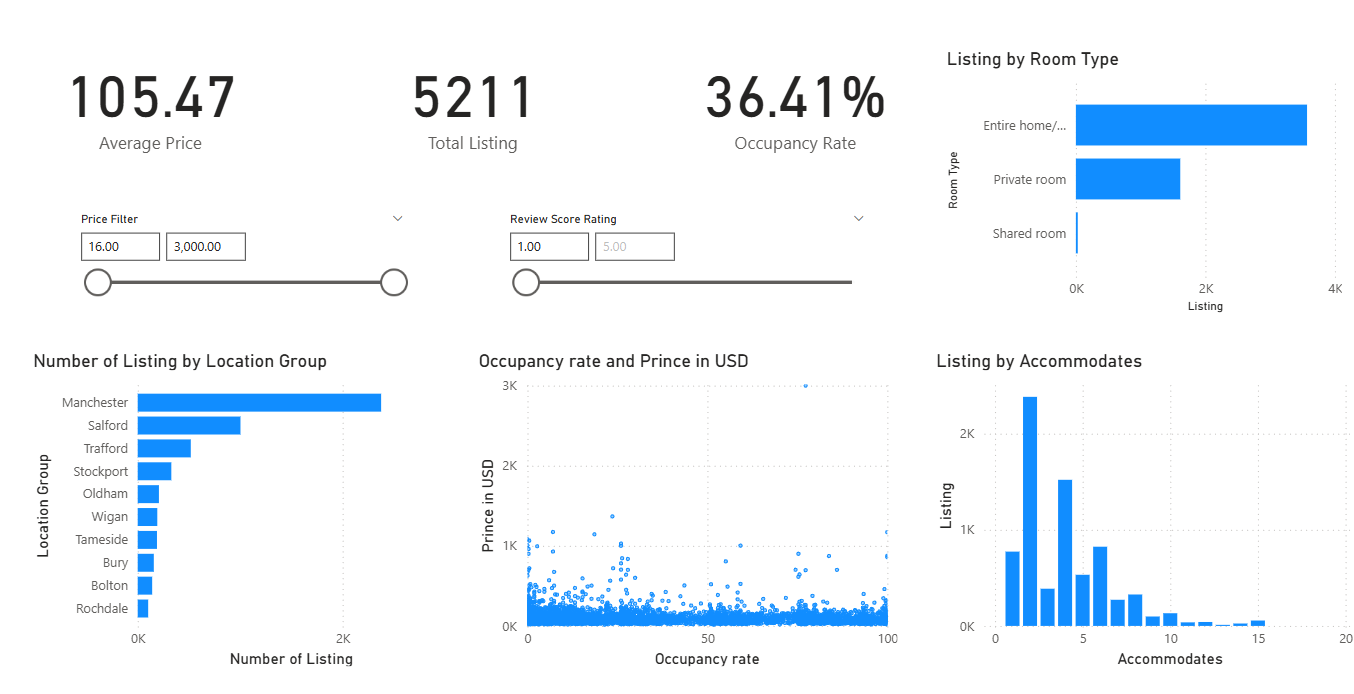

What the dashboard file says about the page in this screenshot:
{"tool":"powerbi","page":{"name":"Page 1","canvas":[1280,720],"ordinal":0},"visuals":[{"type":"card","fields":{"Values":["fct_listing_performance.Occupancy Rate"]},"box":[614,0,334,162],"z":0},{"type":"card","fields":{"Values":["CountNonNull(fct_listing_performance.listing_id)"]},"box":[300,0,314,158],"z":1000},{"type":"card","fields":{"Values":["Avg(fct_listing_performance.price_usd)"]},"box":[0.5,0.1,299.2,162.3],"z":2000},{"type":"clusteredBarChart","fields":{"Category":["neighbourhoods.neighbourhood_group"],"Y":["Count(fct_listing_performance.listing_id)"]},"box":[22,190,556,298],"z":3000},{"type":"scatterChart","fields":{"X":["fct_listing_performance.occupancy_rate_pct"],"Y":["fct_listing_performance.price_usd"]},"box":[600,190,440,298],"z":4000},{"type":"slicer","fields":{"Values":["fct_listing_performance.occupancy_rate_pct"]},"box":[0,488,556,102],"z":5000},{"type":"slicer","fields":{"Values":["fct_listing_performance.price_usd"]},"box":[0,584,556,136],"z":6000}]}

Visuals, with their boxes on the page's 1280x720 design canvas (x1, y1, x2, y2). These are canvas units, not pixel positions in the 1354x694 screenshot, which may show the page scaled, cropped or inside an application window:
card - fct_listing_performance.Occupancy Rate: x1=614 y1=0 x2=948 y2=162
card - CountNonNull(fct_listing_performance.listing_id): x1=300 y1=0 x2=614 y2=158
card - Avg(fct_listing_performance.price_usd): x1=0 y1=0 x2=300 y2=162
clusteredBarChart - neighbourhoods.neighbourhood_group x Count(fct_listing_performance.listing_id): x1=22 y1=190 x2=578 y2=488
scatterChart - fct_listing_performance.occupancy_rate_pct x fct_listing_performance.price_usd: x1=600 y1=190 x2=1040 y2=488
slicer - fct_listing_performance.occupancy_rate_pct: x1=0 y1=488 x2=556 y2=590
slicer - fct_listing_performance.price_usd: x1=0 y1=584 x2=556 y2=720
